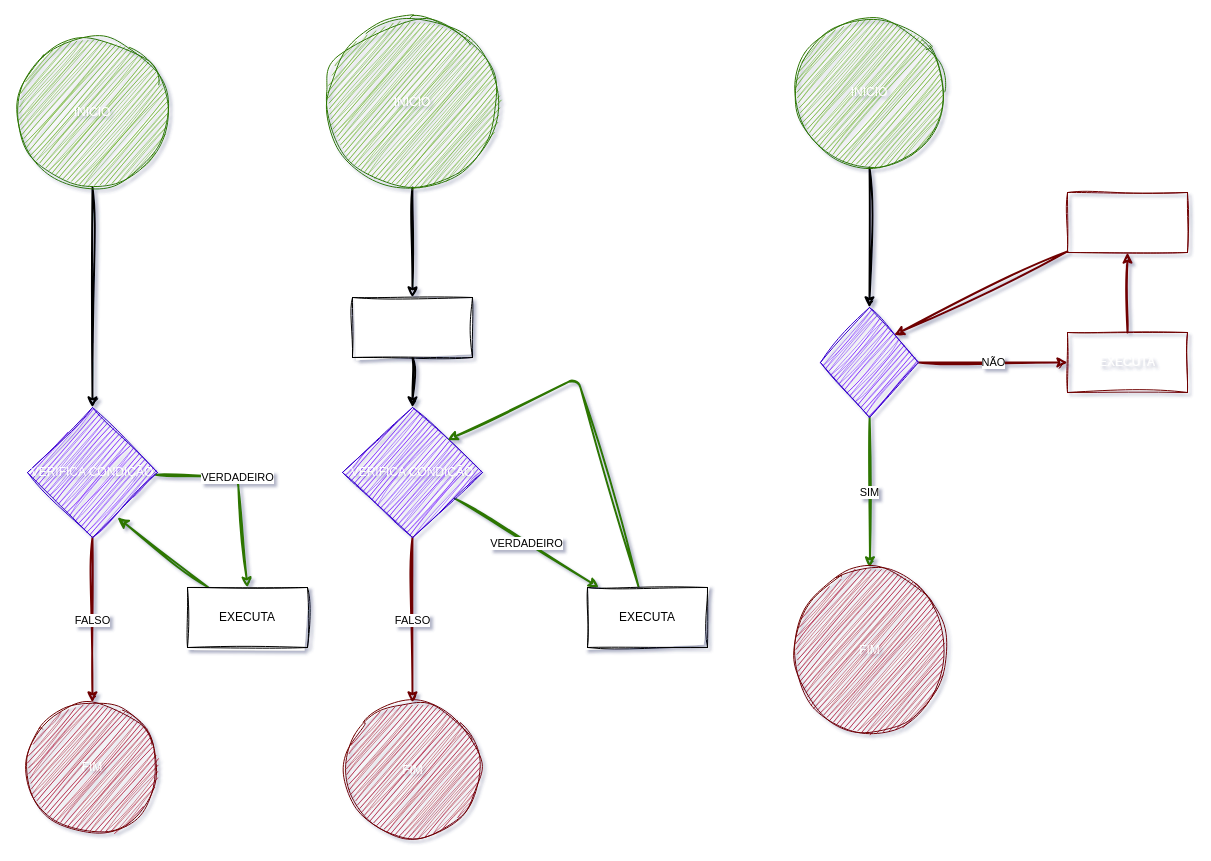
Image size: 1211x861. Some labels were removed from this diagram. Here are the shapes that lost their labels. From the top down, the box of each, then its label:
(1066, 192, 1188, 252): INCREMENTA
(352, 296, 472, 358): EXECUTA O COMANDO
(820, 306, 918, 418): ULTIMO?
